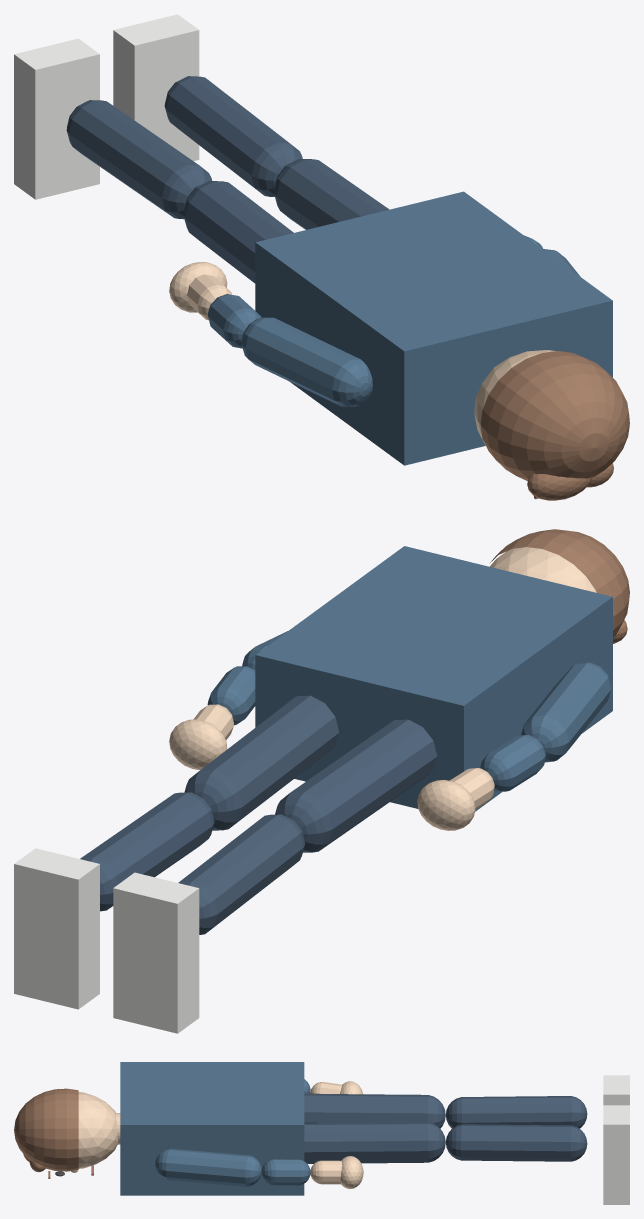
The model's file is CHAR_MALE_001_POSE_IDLE_001.glb.
3 views of the same model, one above another, from view 1: azimuth 30°, elevation 25°; view 2: azimuth 150°, elevation 25°; view 3: azimuth 270°, elevation 25° (orthographic). The views are drawn at different scales.
Visible parts, largest first — view 1: CHAR_MALE_001_torso_jacket, CHAR_MALE_001_hair_cap, CHAR_MALE_001_shoe_L, CHAR_MALE_001_shin_L, CHAR_MALE_001_shoe_R, CHAR_MALE_001_shin_R, CHAR_MALE_001_upper_arm_L, CHAR_MALE_001_thigh_L, CHAR_MALE_001_thigh_R, CHAR_MALE_001_forearm_L, CHAR_MALE_001_hair_quiff, CHAR_MALE_001_hand_L (+2 smaller); view 2: CHAR_MALE_001_torso_jacket, CHAR_MALE_001_shoe_L, CHAR_MALE_001_shoe_R, CHAR_MALE_001_thigh_L, CHAR_MALE_001_thigh_R, CHAR_MALE_001_shin_L, CHAR_MALE_001_shin_R, CHAR_MALE_001_upper_arm_L, CHAR_MALE_001_hair_cap, CHAR_MALE_001_forearm_L, CHAR_MALE_001_head, CHAR_MALE_001_hand_L (+4 smaller); view 3: CHAR_MALE_001_torso_jacket, CHAR_MALE_001_thigh_R, CHAR_MALE_001_shin_R, CHAR_MALE_001_hair_cap, CHAR_MALE_001_thigh_L, CHAR_MALE_001_shin_L, CHAR_MALE_001_upper_arm_R, CHAR_MALE_001_shoe_R, CHAR_MALE_001_head, CHAR_MALE_001_forearm_R, CHAR_MALE_001_shoe_L, CHAR_MALE_001_wrist_R (+3 smaller).
Part boxes in pixels (x1,y1,x2,y2): CHAR_MALE_001_torso_jacket: (255, 191, 612, 465); CHAR_MALE_001_hair_cap: (480, 351, 629, 481); CHAR_MALE_001_shoe_L: (14, 38, 99, 199); CHAR_MALE_001_shin_L: (66, 100, 211, 219); CHAR_MALE_001_shoe_R: (113, 14, 199, 161); CHAR_MALE_001_shin_R: (164, 76, 302, 196); CHAR_MALE_001_upper_arm_L: (241, 317, 372, 406); CHAR_MALE_001_thigh_L: (183, 181, 293, 283); CHAR_MALE_001_thigh_R: (274, 159, 389, 229); CHAR_MALE_001_forearm_L: (207, 294, 261, 348); CHAR_MALE_001_hair_quiff: (527, 474, 591, 500); CHAR_MALE_001_hand_L: (169, 262, 227, 312); CHAR_MALE_001_torso_jacket: (255, 546, 612, 811); CHAR_MALE_001_shoe_L: (113, 872, 199, 1033); CHAR_MALE_001_shoe_R: (14, 848, 99, 1009); CHAR_MALE_001_thigh_L: (275, 719, 437, 852); CHAR_MALE_001_thigh_R: (184, 695, 339, 830); CHAR_MALE_001_shin_L: (178, 814, 304, 934); CHAR_MALE_001_shin_R: (80, 792, 214, 911); CHAR_MALE_001_upper_arm_L: (521, 662, 611, 762); CHAR_MALE_001_hair_cap: (490, 529, 629, 637); CHAR_MALE_001_forearm_L: (480, 735, 545, 791); CHAR_MALE_001_head: (490, 547, 596, 592); CHAR_MALE_001_hand_L: (417, 780, 475, 830); CHAR_MALE_001_torso_jacket: (120, 1062, 304, 1195); CHAR_MALE_001_thigh_R: (304, 1122, 445, 1163); CHAR_MALE_001_shin_R: (445, 1124, 587, 1161); CHAR_MALE_001_hair_cap: (14, 1088, 78, 1171); CHAR_MALE_001_thigh_L: (304, 1093, 445, 1128); CHAR_MALE_001_shin_L: (445, 1096, 587, 1128); CHAR_MALE_001_upper_arm_R: (155, 1148, 261, 1186); CHAR_MALE_001_shoe_R: (603, 1105, 629, 1204); CHAR_MALE_001_head: (78, 1092, 118, 1168); CHAR_MALE_001_forearm_R: (261, 1159, 310, 1185); CHAR_MALE_001_shoe_L: (603, 1075, 629, 1105); CHAR_MALE_001_wrist_R: (310, 1160, 341, 1184).
Bounding box in the file's own units: 0.6598 × 0.2734 × 1.76.
